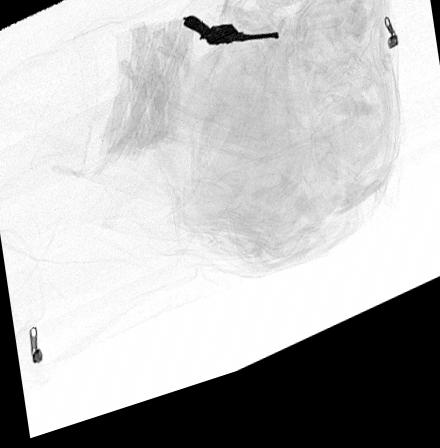Gun: (182, 27, 280, 59)
